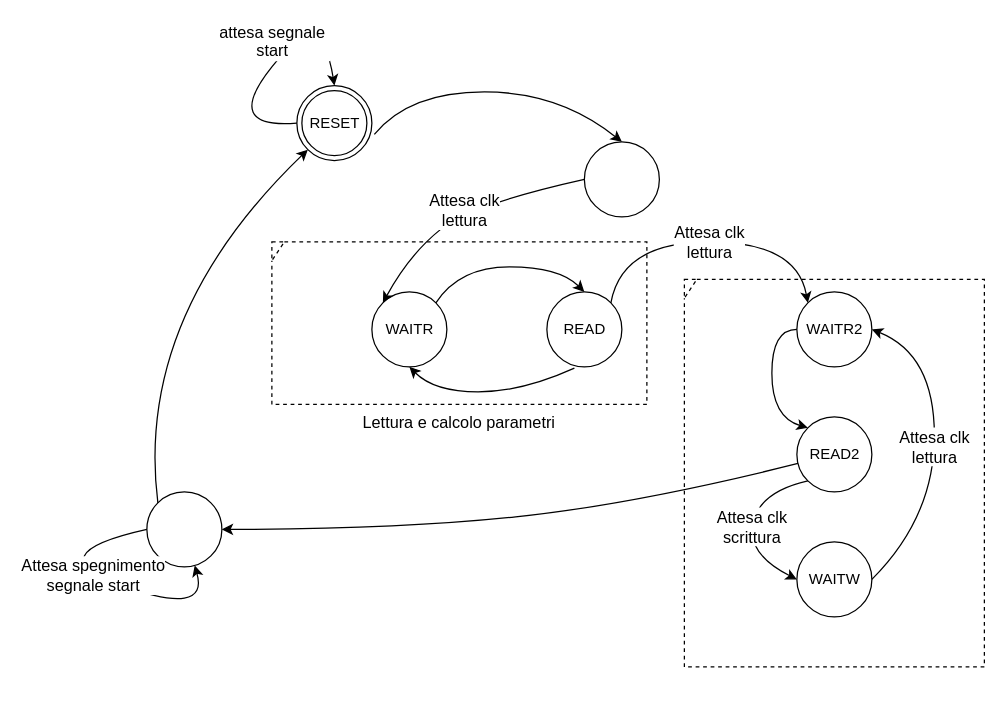
This 1008x718 diagram has some shape labels left out. Each missing label, with the centre of its shape:
"Calcolo pixel equalizzati e scrittura" belongs at [833,472].
"DONE" belongs at [184,529].
"START" belongs at [621,179].
